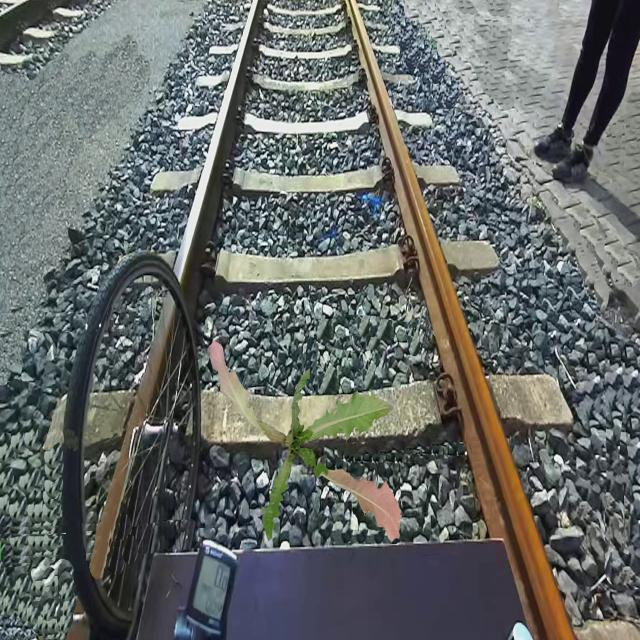Plant: (209, 340, 402, 542)
